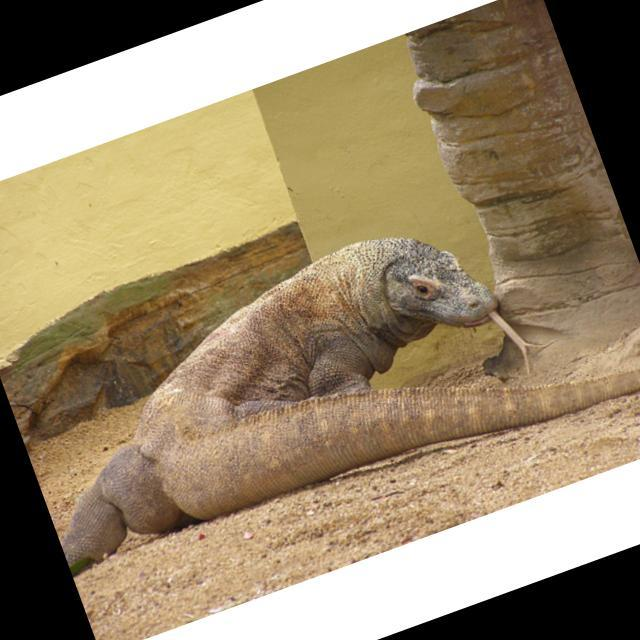KomodoDragon: (0, 151, 640, 594)
